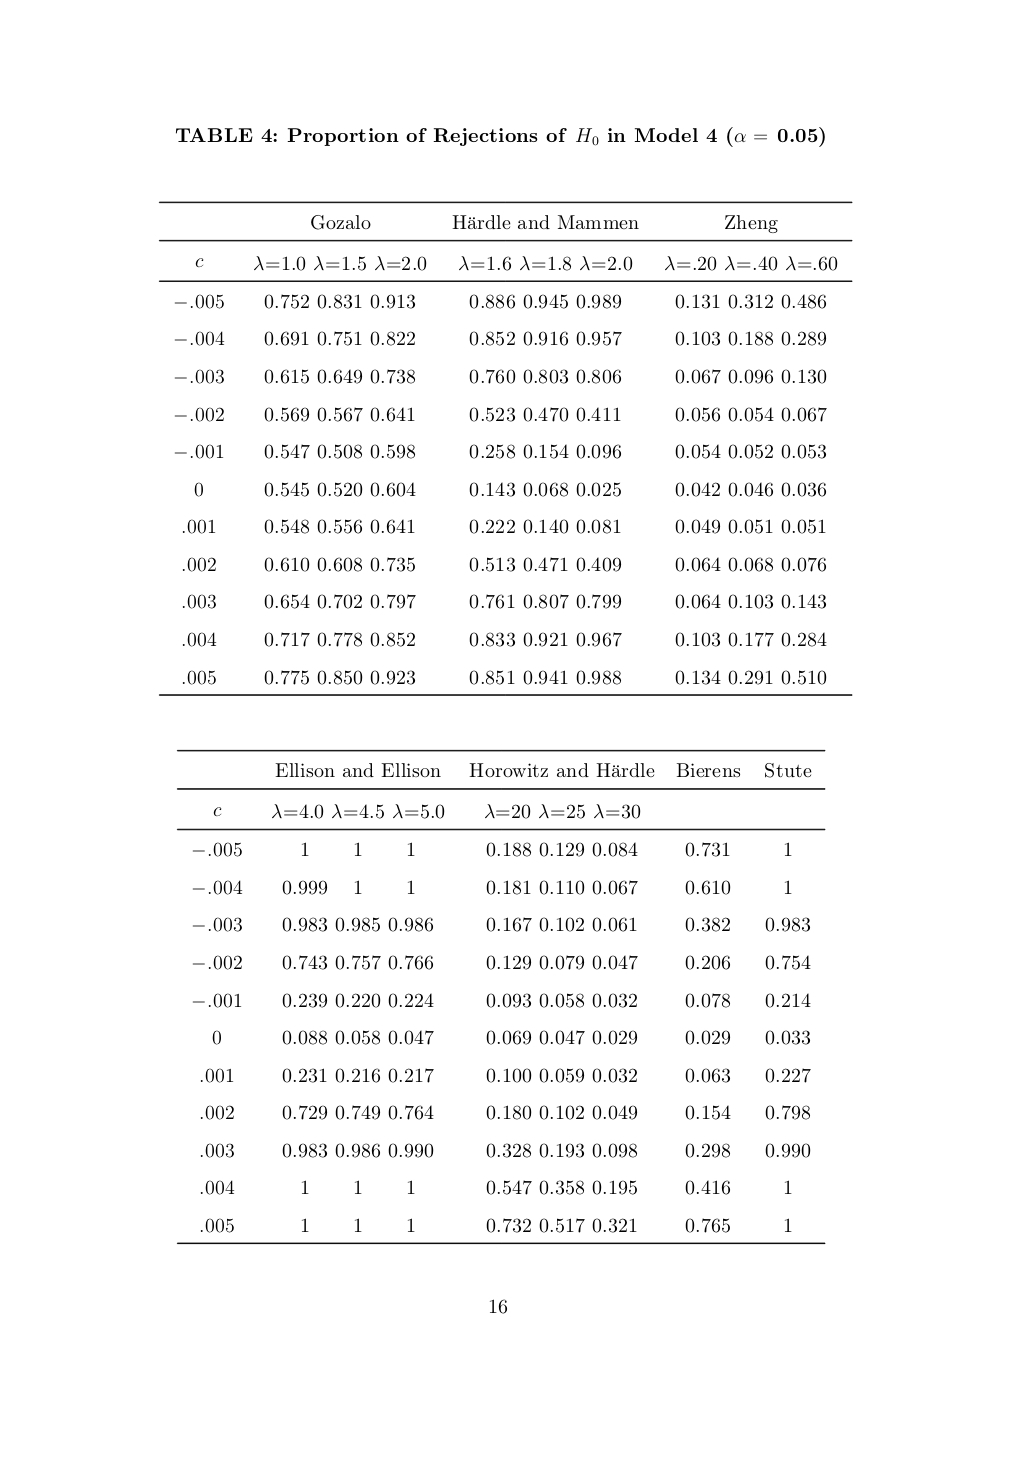Table: (158, 201, 852, 695), (176, 748, 825, 1244)
